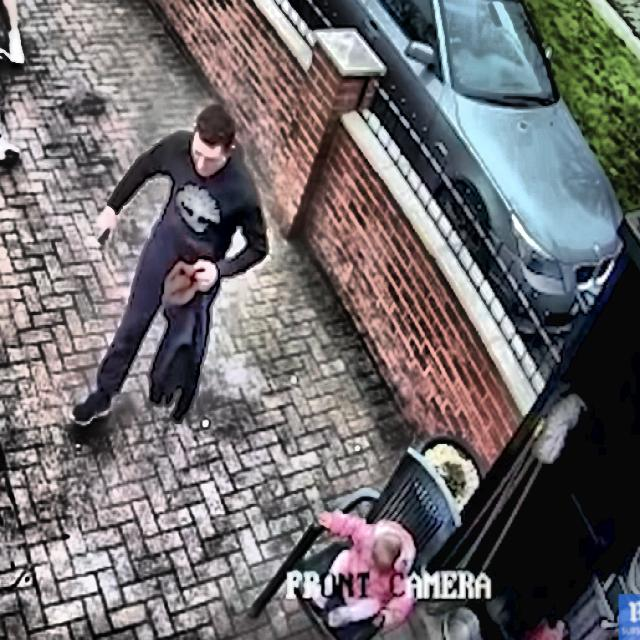Human: (72, 94, 264, 492)
